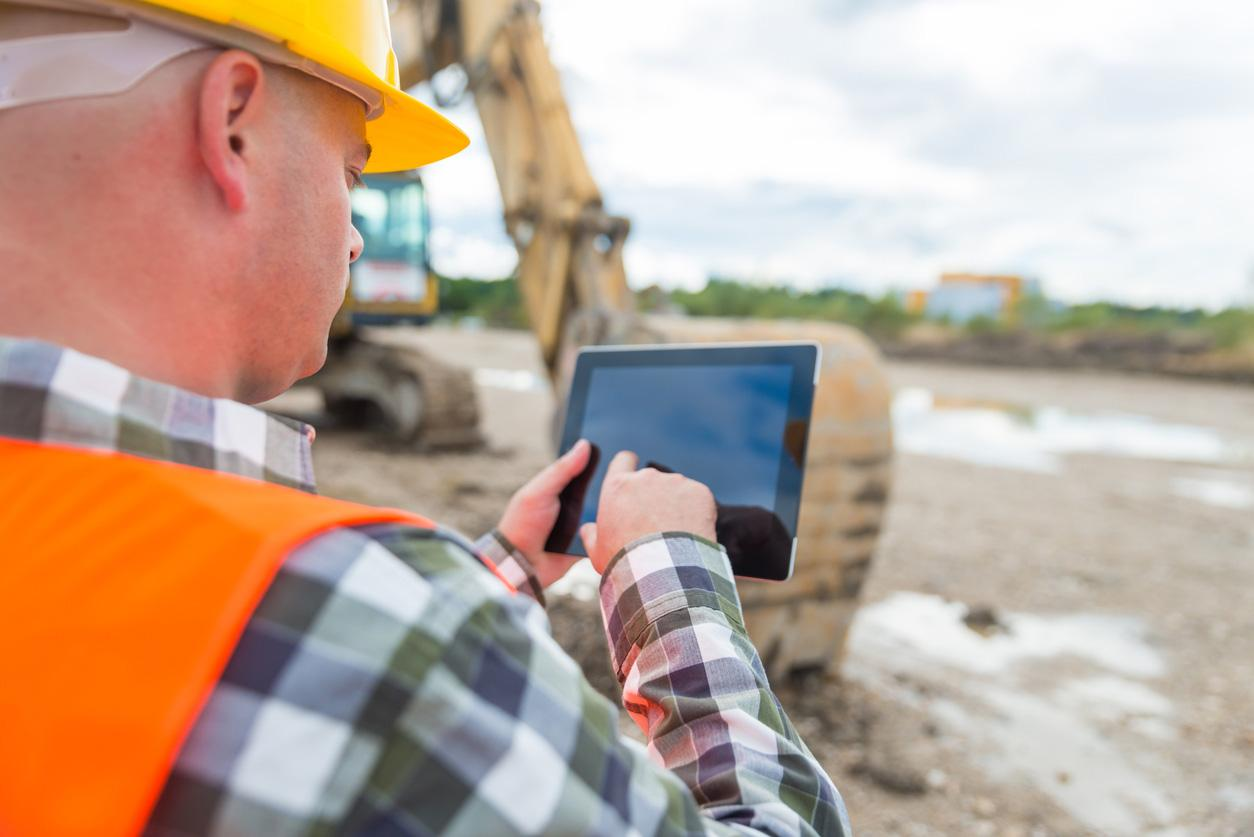helmet: (125, 1, 473, 180)
